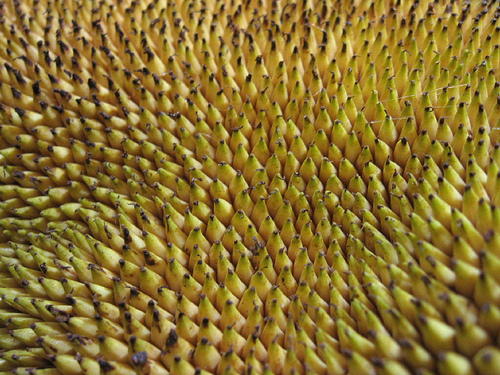jackfruit: (6, 2, 497, 372)
